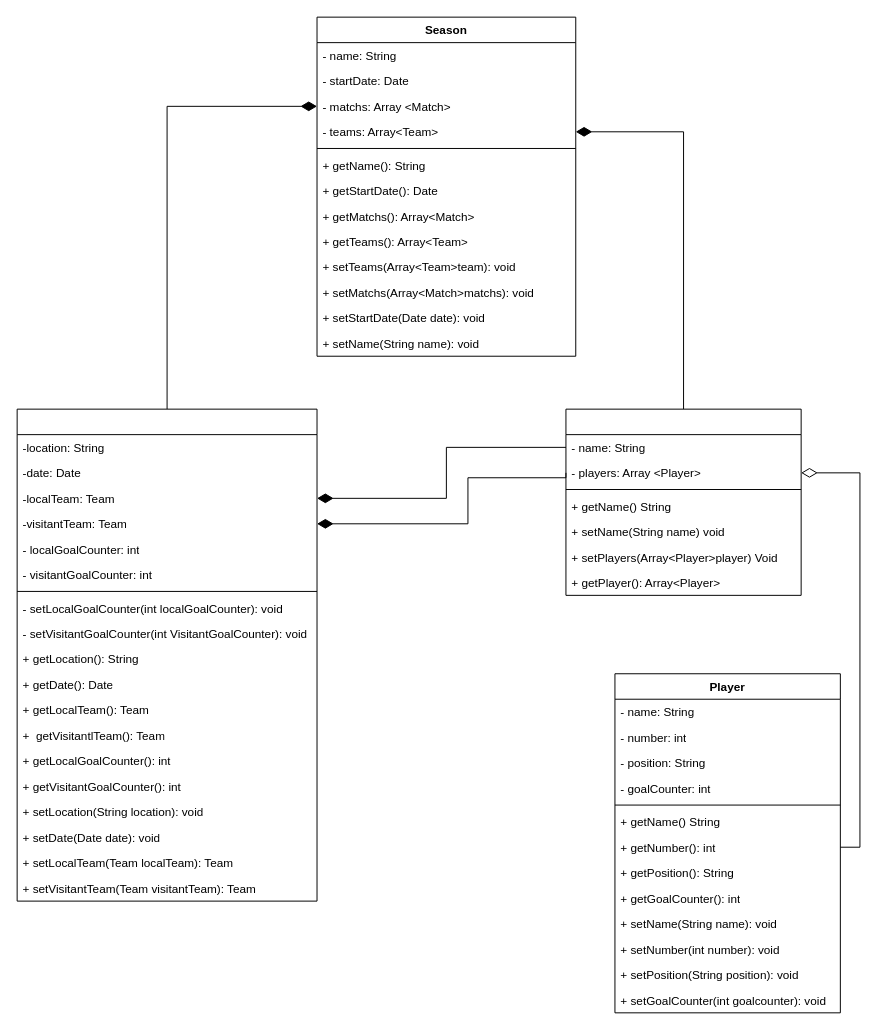
Image size: 893x1033. Some labels were removed from this diagram. The shapes that lost their labels are listed below. From the top down, each one's box as (x1, y1, x2, y2) in pixels, then its label:
(565, 408, 801, 595): Team
(16, 408, 317, 901): Match
